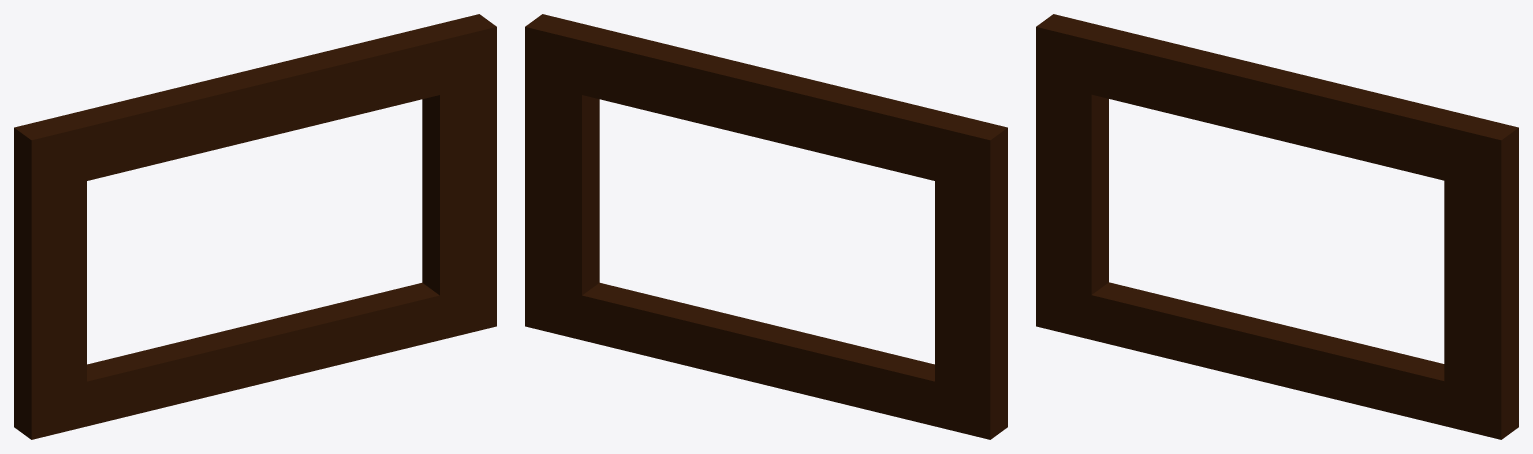
Rendered from reja1.fbx.
3 renders of one model, left to right at view 1: azimuth 30°, elevation 25°; view 2: azimuth 150°, elevation 25°; view 3: azimuth 330°, elevation 25°, orthographic.
Visible parts, largest first — view 1: Cube.015; view 2: Cube.015; view 3: Cube.015.
Boxes of the visible parts, left/top/right/bottom form: Cube.015: left=14, top=14, right=496, bottom=439; Cube.015: left=525, top=14, right=1007, bottom=439; Cube.015: left=1036, top=14, right=1518, bottom=439.
Size of the model in its own units: 960 by 591 by 62.56.
